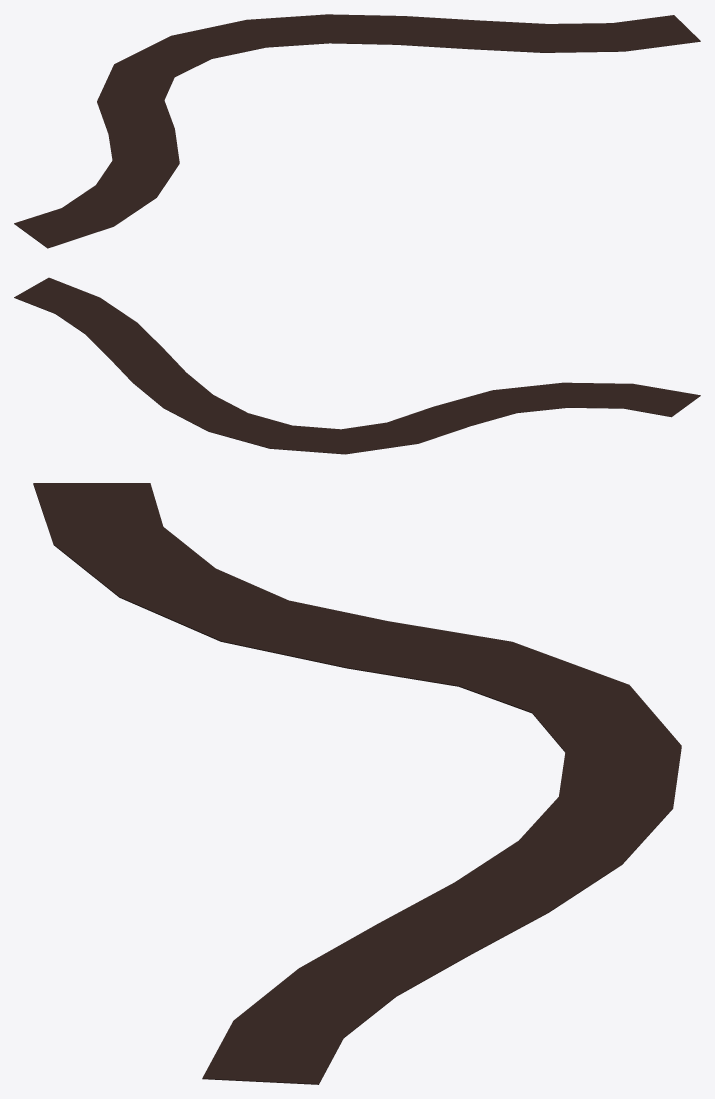
Rendered from Footpath.fbx.
The picture shows the model from 3 angles, top to bottom: view 1: azimuth 30°, elevation 25°; view 2: azimuth 150°, elevation 25°; view 3: azimuth 270°, elevation 25°; orthographic projection. The views are drawn at different scales.
Parts seen in each view (by area): view 1: Footpath; view 2: Footpath; view 3: Footpath.
Part boxes in pixels (left/top/right/bottom): Footpath: left=14, top=14, right=700, bottom=248; Footpath: left=14, top=277, right=700, bottom=454; Footpath: left=33, top=483, right=681, bottom=1084.
Bounding box in the file's own units: 2505 × 1.9 × 1143.
